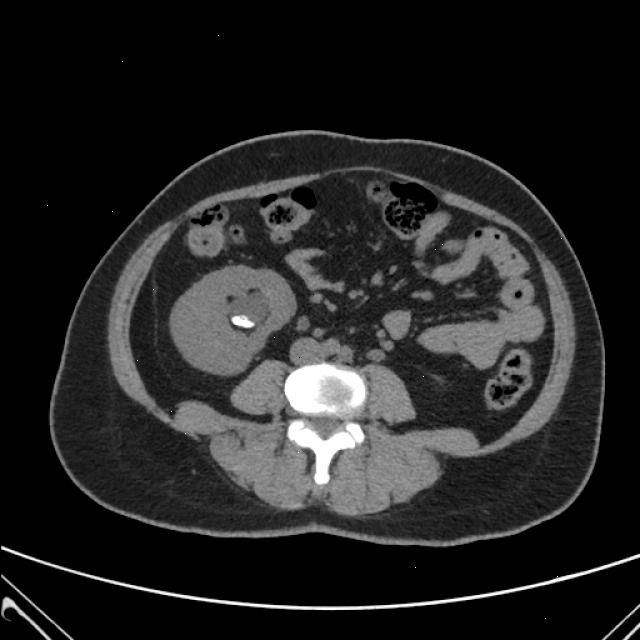kidneystone: (230, 315, 255, 329)
